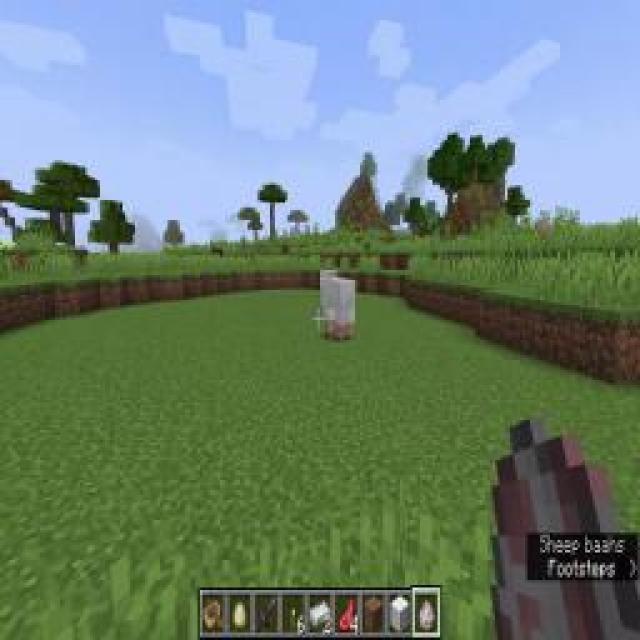Sheep: (318, 264, 358, 346)
